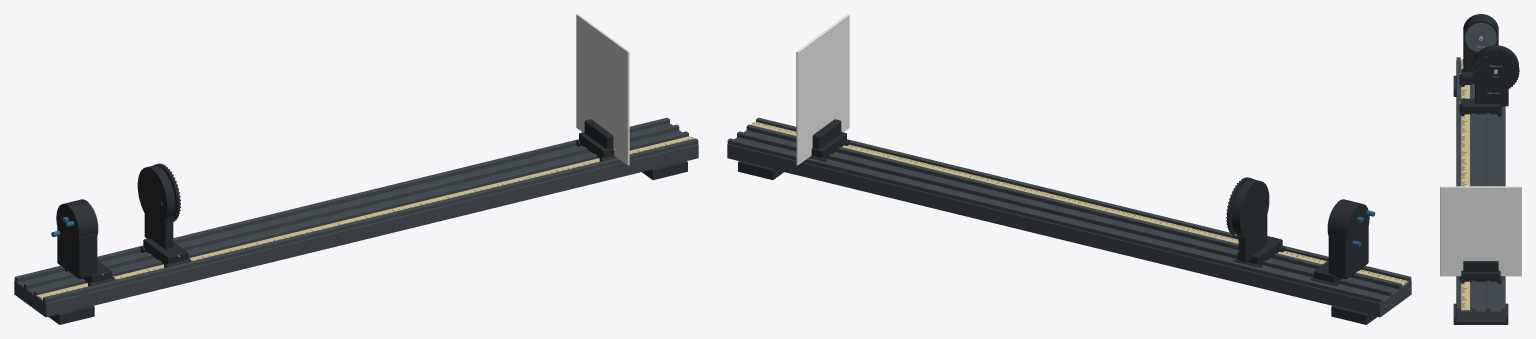
Rendered from diffraction-bench.glb.
3 views of the same model, side by side, from view 1: azimuth 30°, elevation 25°; view 2: azimuth 150°, elevation 25°; view 3: azimuth 270°, elevation 25° (orthographic). The views are drawn at different scales.
Visible parts, largest first — view 1: Extruded rail, Screen backing, Channel lip, Channel lip.002, Channel lip.003, Channel lip.001, Ruler strip, Support rounded top, Laser standing body, Laser rounded head, Wheel support, ApertureCarrier_base (+3 smaller); view 2: Extruded rail, Screen backing, Channel lip.003, Channel lip.002, Channel lip.001, Channel lip, Ruler strip, Support rounded top, Laser standing body, Laser rounded head, Wheel support, Screen socket (+3 smaller); view 3: Screen backing, Extruded rail, Aperture wheel disc.001, Ruler strip, Channel lip, Front face, Channel lip.001, Channel lip.003, Channel lip.002, Wheel support, ApertureCarrier_base, Laser rounded head (+7 smaller).
Boxes of the visible parts, left/top/right/bottom form: Extruded rail: left=14, top=123, right=698, bottom=317; Screen backing: left=576, top=14, right=629, bottom=165; Channel lip: left=43, top=138, right=698, bottom=303; Channel lip.002: left=24, top=124, right=679, bottom=289; Channel lip.003: left=14, top=117, right=669, bottom=282; Channel lip.001: left=33, top=131, right=688, bottom=296; Ruler strip: left=36, top=136, right=693, bottom=299; Support rounded top: left=137, top=165, right=175, bottom=224; Laser standing body: left=57, top=227, right=97, bottom=279; Laser rounded head: left=56, top=199, right=97, bottom=248; Wheel support: left=144, top=198, right=173, bottom=249; ApertureCarrier_base: left=143, top=238, right=188, bottom=264; Extruded rail: left=727, top=130, right=1411, bottom=317; Screen backing: left=796, top=14, right=849, bottom=165; Channel lip.003: left=727, top=138, right=1382, bottom=303; Channel lip.002: left=737, top=131, right=1392, bottom=296; Channel lip.001: left=746, top=124, right=1401, bottom=289; Channel lip: left=756, top=117, right=1411, bottom=282; Ruler strip: left=751, top=121, right=1408, bottom=285; Support rounded top: left=1231, top=179, right=1269, bottom=238; Laser standing body: left=1328, top=224, right=1368, bottom=279; Laser rounded head: left=1328, top=199, right=1369, bottom=247; Wheel support: left=1238, top=208, right=1267, bottom=262; Screen socket: left=812, top=119, right=841, bottom=149; Screen backing: left=1440, top=186, right=1521, bottom=276; Extruded rail: left=1456, top=60, right=1505, bottom=322; Aperture wheel disc.001: left=1472, top=49, right=1518, bottom=92; Ruler strip: left=1461, top=59, right=1469, bottom=310; Channel lip: left=1456, top=57, right=1460, bottom=311; Front face: left=1465, top=23, right=1496, bottom=52; Channel lip.001: left=1471, top=84, right=1475, bottom=311; Channel lip.003: left=1501, top=106, right=1505, bottom=311; Channel lip.002: left=1486, top=113, right=1490, bottom=311; Wheel support: left=1475, top=82, right=1508, bottom=106; ApertureCarrier_base: left=1461, top=98, right=1500, bottom=114; Laser rounded head: left=1463, top=14, right=1498, bottom=53.
Size of the model in its own units: 1.2 by 0.251 by 0.165.
